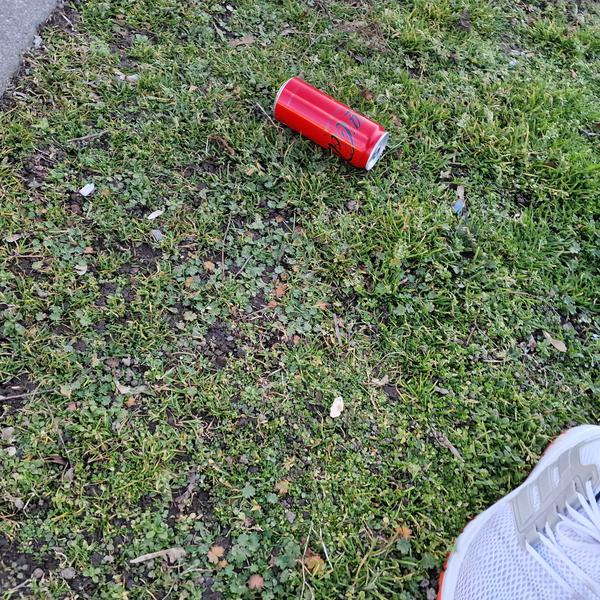can: (265, 72, 394, 174)
